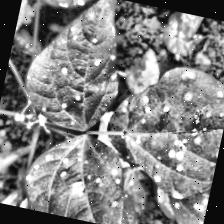Bean Rust: (102, 55, 224, 206), (16, 0, 134, 136), (17, 126, 157, 224), (163, 162, 214, 224), (34, 0, 117, 16)
